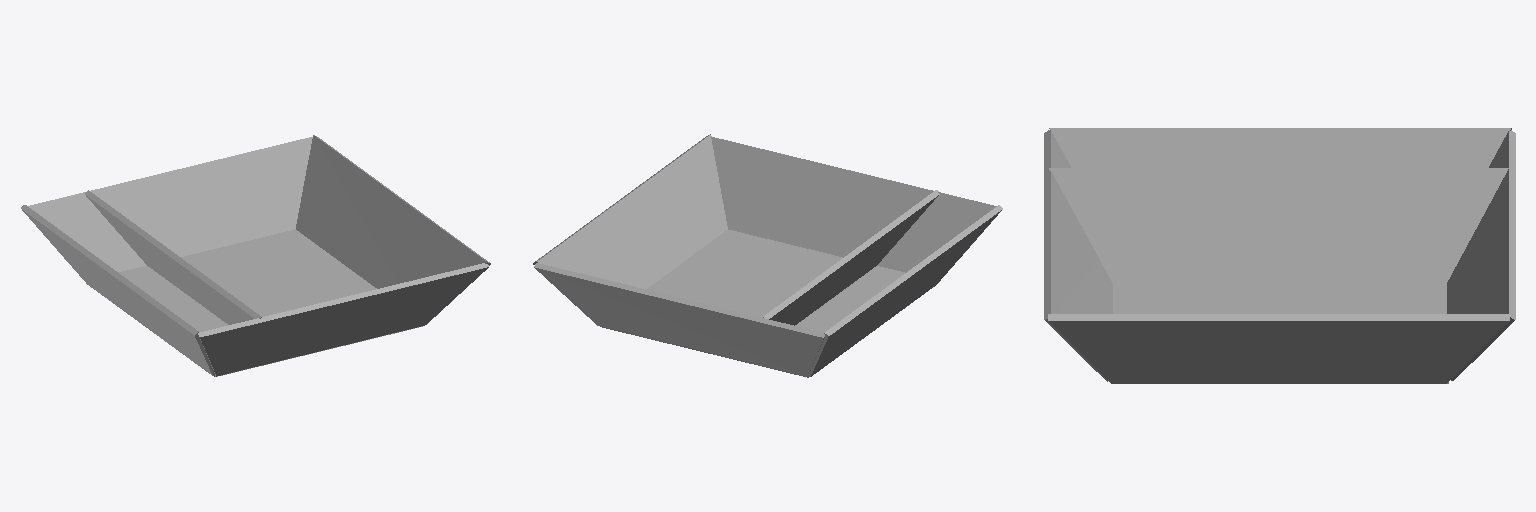
URDF robot description (tray.urdf):
<?xml version="1.0" ?>
<robot name="tray.urdf">
  <link name="tray_base_link">
    <contact>
      <lateral_friction value="0.5"/>
      <rolling_friction value="0.0"/>
      <contact_cfm value="0.0"/>
      <contact_erp value="1.0"/>
    </contact>
    <inertial>
      <origin rpy="0 0 0" xyz="0 0 0"/>
      <mass value="0"/>
      <inertia ixx="0" ixy="0" ixz="0" iyy="0" iyz="0" izz="0"/>
    </inertial>
    <visual>
      <origin rpy="0 0 0" xyz="0 0 0"/>
      <geometry>
        <mesh filename="tray_textured.obj" scale="0.5 0.5 0.5"/>
      </geometry>
      <material name="tray_material">
        <color rgba="0.7 0.7 0.7 1"/>
      </material>
    </visual>
    <collision>
      <origin rpy="0 0 0" xyz="0 0 0"/>
      <geometry>
        <mesh filename="tray_textured.obj" scale="0.5 0.5 0.5"/>
      </geometry>
    </collision>
  </link>
</robot>

--- Render facts (derived) ---
3 views of the same robot in one strip: view 1: azimuth 30°, elevation 25°; view 2: azimuth 150°, elevation 25°; view 3: azimuth 270°, elevation 25° (orthographic).
Model tray.urdf with 1 links and 0 joints (none), rooted at tray_base_link, posed all joints at 0.
Visible links, largest first — view 1: tray_base_link; view 2: tray_base_link; view 3: tray_base_link.
Boxes of the visible links, box(x1,y1,x2,y2) form: tray_base_link: box(21, 135, 490, 376); tray_base_link: box(533, 134, 1002, 377); tray_base_link: box(1044, 128, 1515, 383).
Bounding box of the posed robot: 0.5938 × 0.6155 × 0.1384 m (x, y, z).
Meshes: 1 distinct files referenced, 1 mesh visuals loaded (1 OBJ).